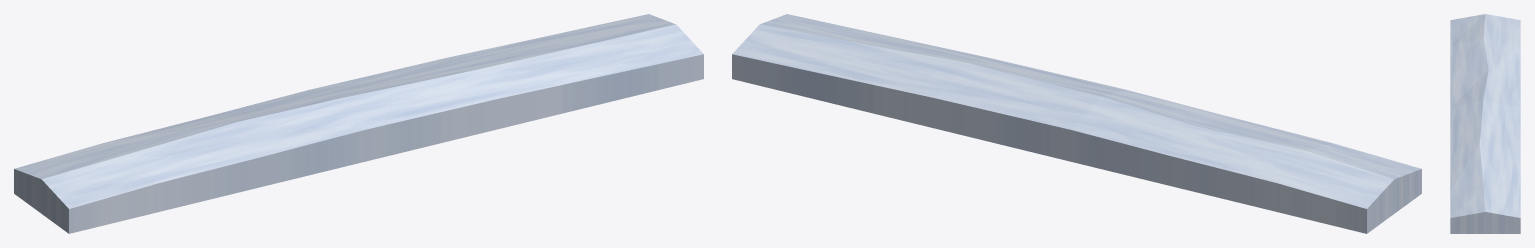
Rendered from snow_roof_edge.glb.
3 views of the same model, side by side, from view 1: azimuth 30°, elevation 25°; view 2: azimuth 150°, elevation 25°; view 3: azimuth 270°, elevation 25° (orthographic). The views are drawn at different scales.
Parts seen in each view (by area): view 1: winter_snow_roof_edge; view 2: winter_snow_roof_edge; view 3: winter_snow_roof_edge.
Boxes of the visible parts, bbox=[...] form: winter_snow_roof_edge: bbox=[14, 14, 703, 233]; winter_snow_roof_edge: bbox=[732, 14, 1421, 233]; winter_snow_roof_edge: bbox=[1450, 14, 1520, 233].
Size of the model in its own units: 2.4 by 0.16 by 0.36.
1 material, 1 textured.
